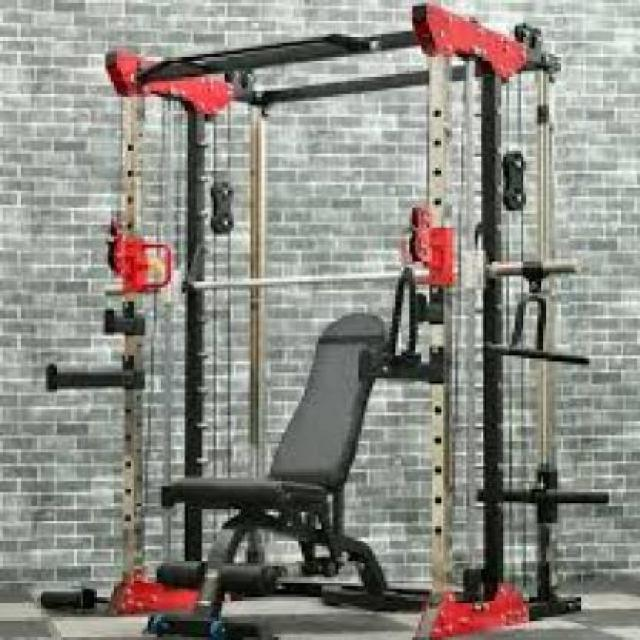smith machine: (49, 0, 608, 640)
